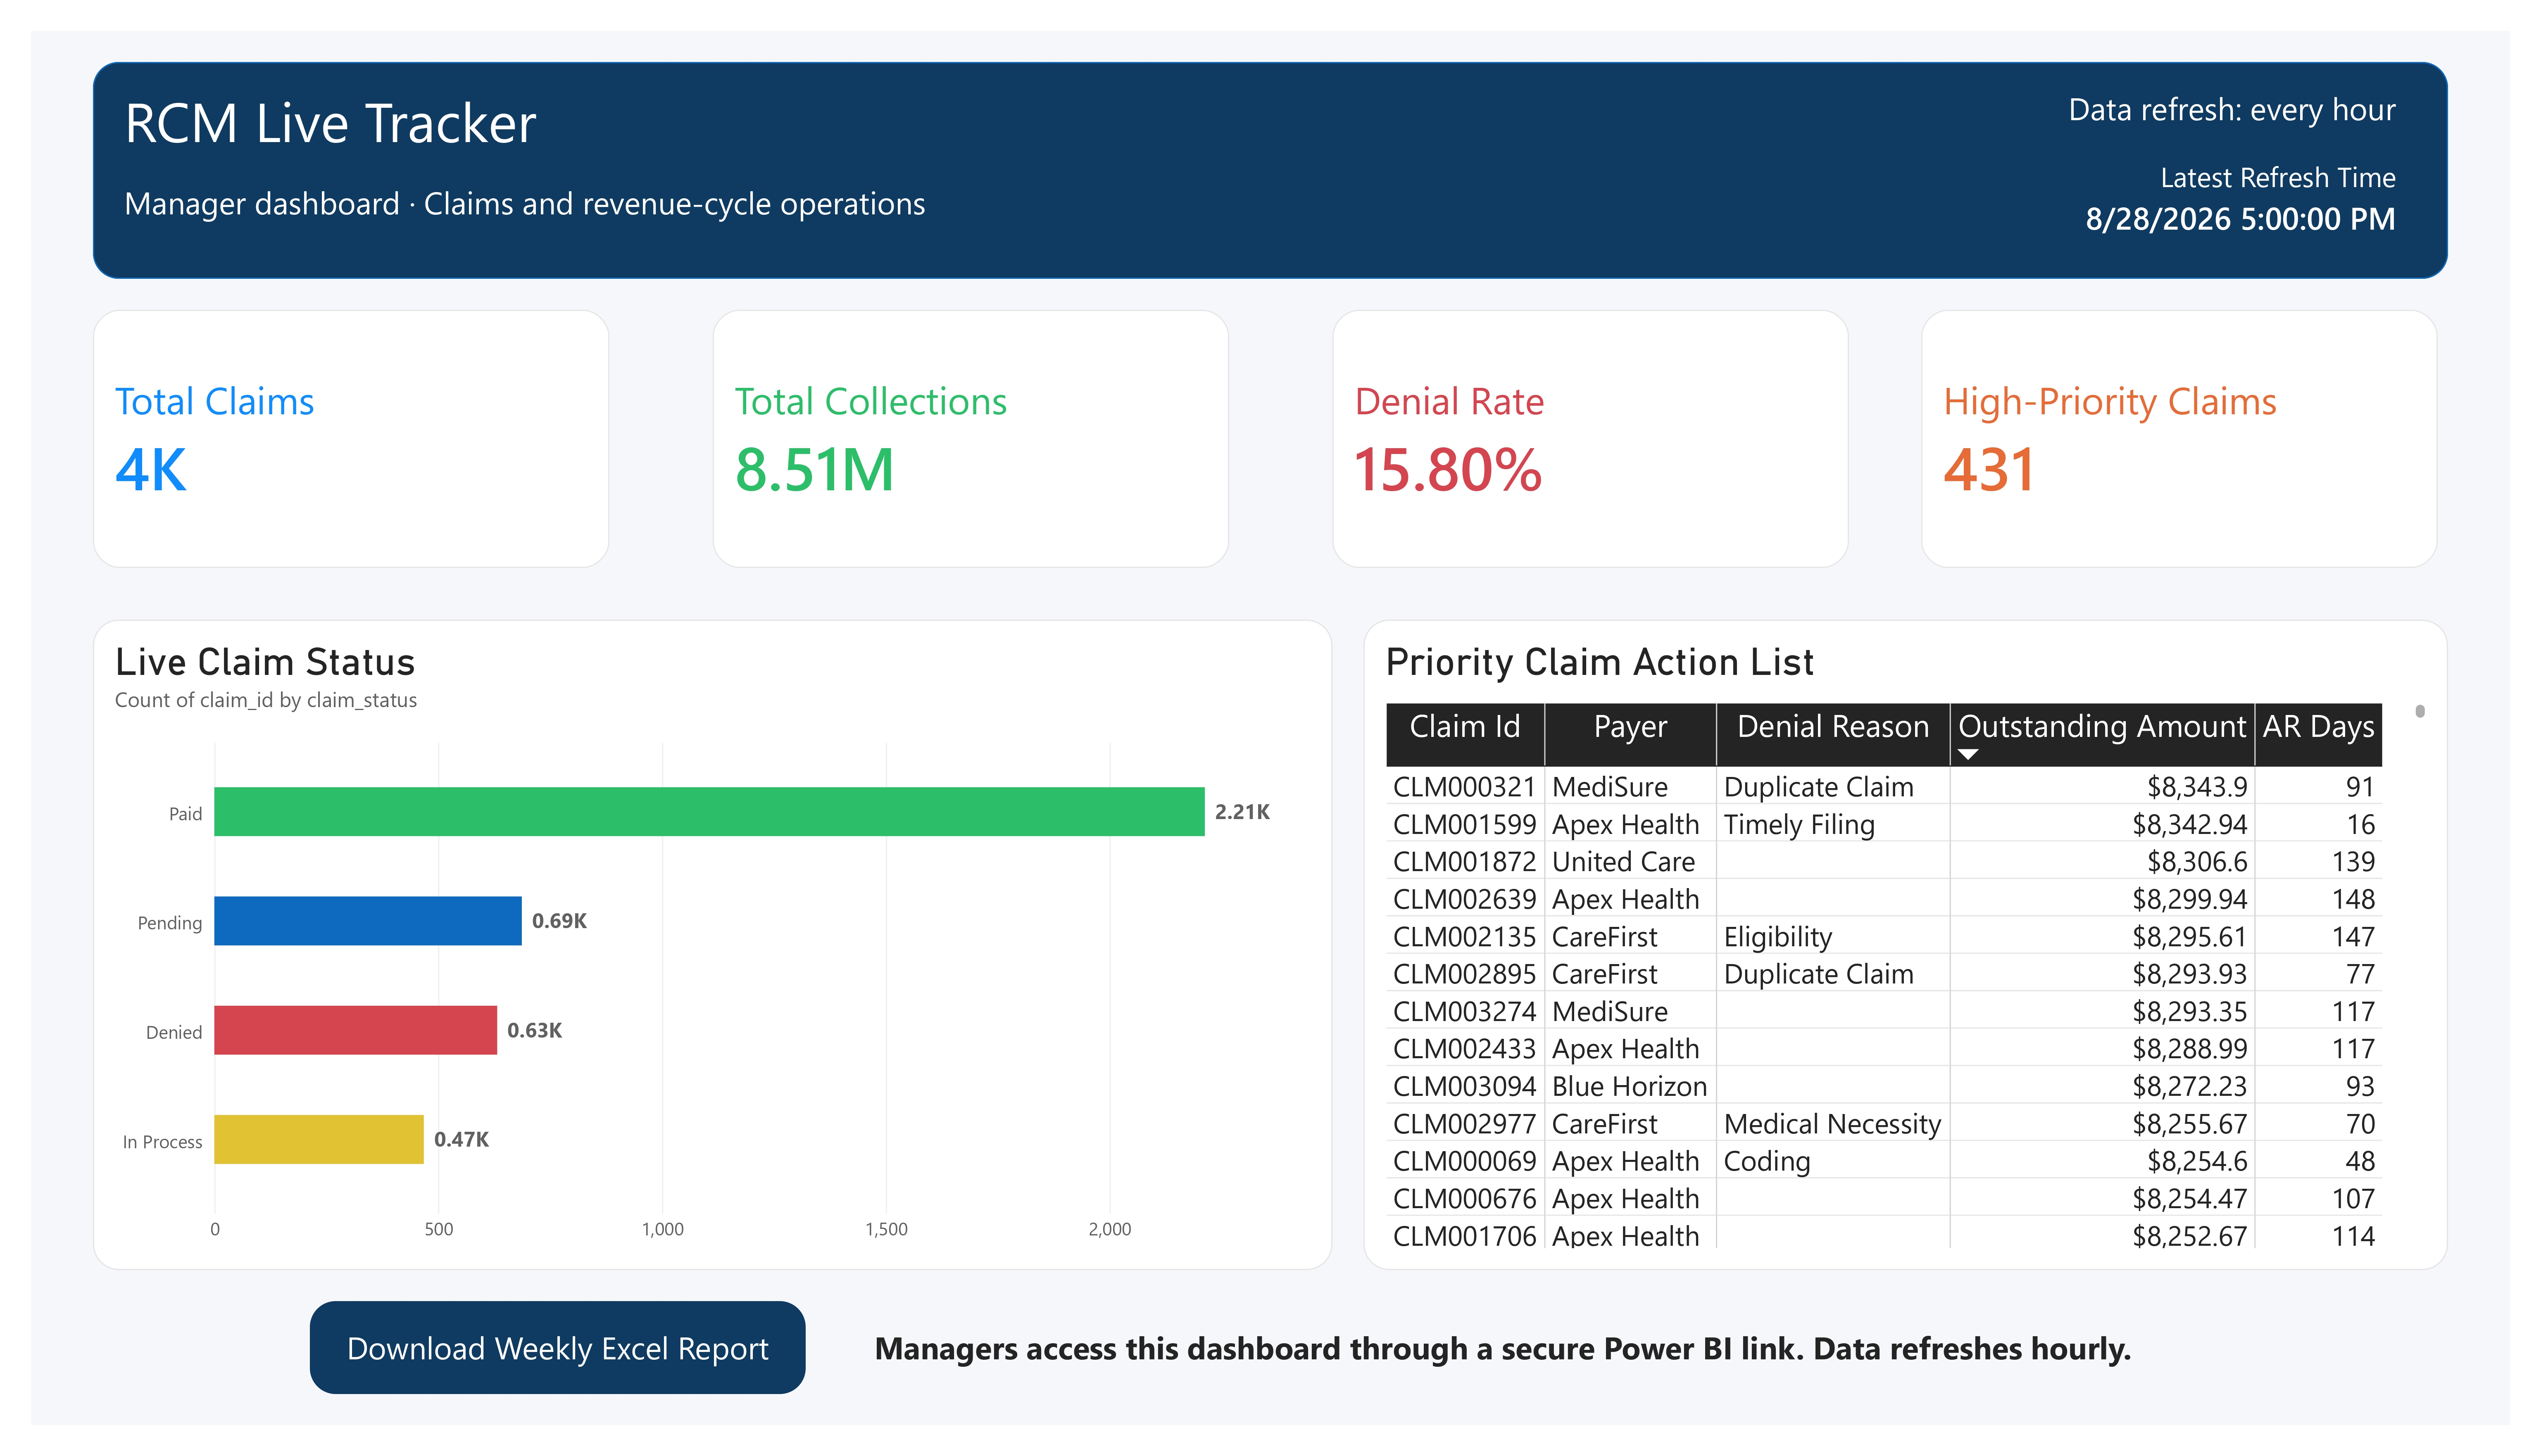

This screenshot's page, from the dashboard's own definition file:
{"tool":"powerbi","page":{"name":"RCM Live Tracker","canvas":[1920,1080],"ordinal":1},"visuals":[{"type":"cardVisual","fields":{"Data":["Measure.RCM Total Claims"]},"box":[48,216,400,200],"z":0},{"type":"cardVisual","fields":{"Data":["Measure.RCM High Priority Claims"]},"box":[1464,216,400,200],"z":1000},{"type":"cardVisual","fields":{"Data":["Measure.RCM Total Collections"]},"box":[528,216,400,200],"z":2000},{"type":"cardVisual","fields":{"Data":["Measure.RCM Denial Rate"]},"box":[1008,216,400,200],"z":3000},{"type":"clusteredBarChart","title":"Live Claim Status","fields":{"Category":["rcm_live_tracker claim_fact.claim_status"],"Y":["CountNonNull(rcm_live_tracker claim_fact.claim_id)"]},"box":[48,456,960,504],"z":4000},{"type":"tableEx","title":"Priority Claim Action List","fields":{"Values":["rcm_live_tracker claim_fact.claim_id","rcm_live_tracker claim_fact.payer","rcm_live_tracker claim_fact.denial_reason","rcm_live_tracker claim_fact.outstanding_amount_inr","rcm_live_tracker claim_fact.days_in_ar"]},"box":[1032,456,840,504],"z":5000},{"type":"shape","box":[48,24,1824,168],"z":6000},{"type":"textbox","box":[72,40,1728,140],"z":7000},{"type":"textbox","box":[1200,24,648,72],"z":8000},{"type":"cardVisual","fields":{"Data":["Measure.Latest Refresh Time"]},"box":[1488,94,360,72],"z":9000},{"type":"actionButton","box":[216,984,384,72],"z":10000},{"type":"textbox","box":[216,984,384,72],"z":11000},{"type":"textbox","box":[576,984,1128,72],"z":12000}]}

Visuals, with their boxes on the page's 1920x1080 design canvas (x1, y1, x2, y2). These are canvas units, not pixel positions in the 2541x1456 screenshot, which may show the page scaled, cropped or inside an application window:
cardVisual - Measure.RCM Total Claims: x1=48, y1=216, x2=448, y2=416
cardVisual - Measure.RCM High Priority Claims: x1=1464, y1=216, x2=1864, y2=416
cardVisual - Measure.RCM Total Collections: x1=528, y1=216, x2=928, y2=416
cardVisual - Measure.RCM Denial Rate: x1=1008, y1=216, x2=1408, y2=416
"Live Claim Status" clusteredBarChart: x1=48, y1=456, x2=1008, y2=960
"Priority Claim Action List" tableEx: x1=1032, y1=456, x2=1872, y2=960
shape: x1=48, y1=24, x2=1872, y2=192
textbox: x1=72, y1=40, x2=1800, y2=180
textbox: x1=1200, y1=24, x2=1848, y2=96
cardVisual - Measure.Latest Refresh Time: x1=1488, y1=94, x2=1848, y2=166
actionButton: x1=216, y1=984, x2=600, y2=1056
textbox: x1=216, y1=984, x2=600, y2=1056
textbox: x1=576, y1=984, x2=1704, y2=1056
